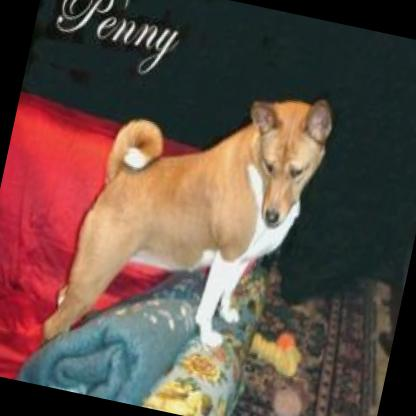basenji: (36, 47, 339, 383)
